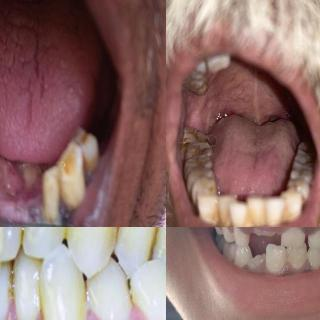calculus: (72, 146, 102, 184), (49, 189, 74, 223), (250, 210, 286, 226)
maligned: (41, 244, 80, 320), (137, 252, 166, 320), (123, 227, 159, 269), (23, 227, 67, 251), (263, 241, 285, 274), (0, 253, 10, 320), (226, 194, 246, 222)
plaque: (285, 244, 309, 270), (15, 227, 33, 247), (308, 246, 320, 272), (60, 227, 82, 239)
stains: (140, 227, 164, 264), (70, 282, 92, 320), (5, 265, 19, 313), (102, 227, 120, 247)
